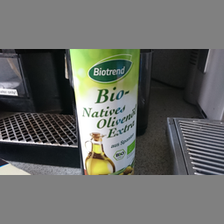oil: (63, 49, 141, 174)
